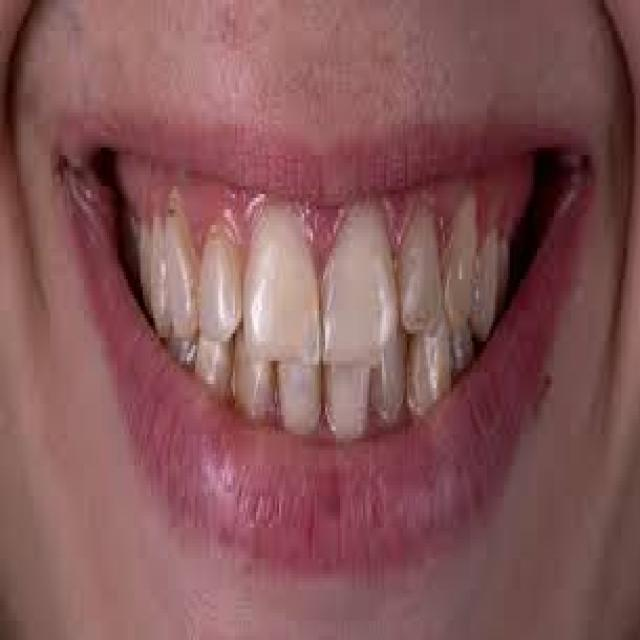tooth: (235, 217, 319, 365), (321, 213, 399, 353), (397, 206, 442, 345), (443, 202, 487, 322), (164, 210, 199, 338), (199, 225, 235, 341), (323, 361, 367, 446), (231, 357, 273, 430), (193, 342, 239, 408), (409, 338, 451, 408), (277, 361, 315, 434), (138, 221, 162, 322), (374, 357, 407, 427)
